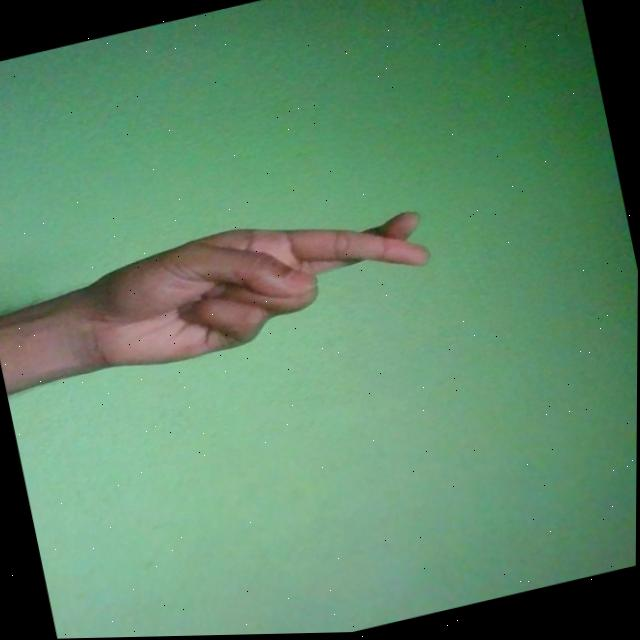Good Luck: (68, 187, 444, 384)
